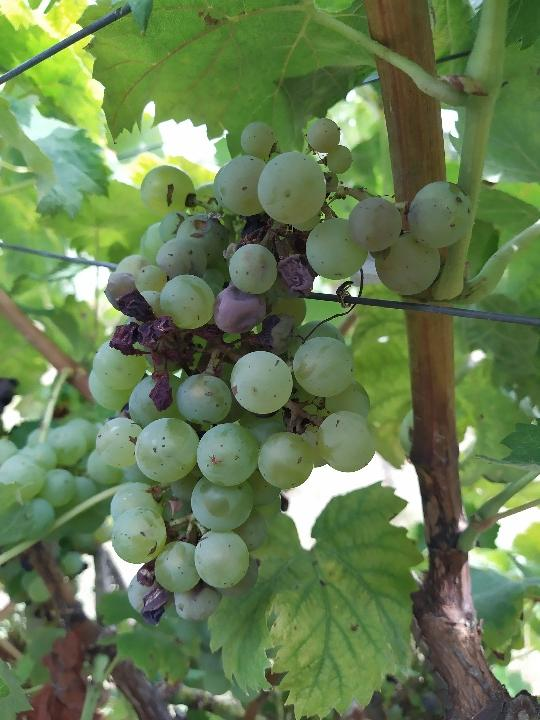grape: (84, 115, 476, 630)
